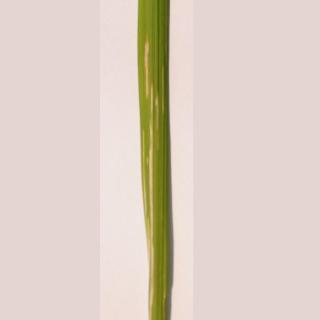Hawar-Daun: (138, 123, 180, 320), (136, 37, 172, 117)
